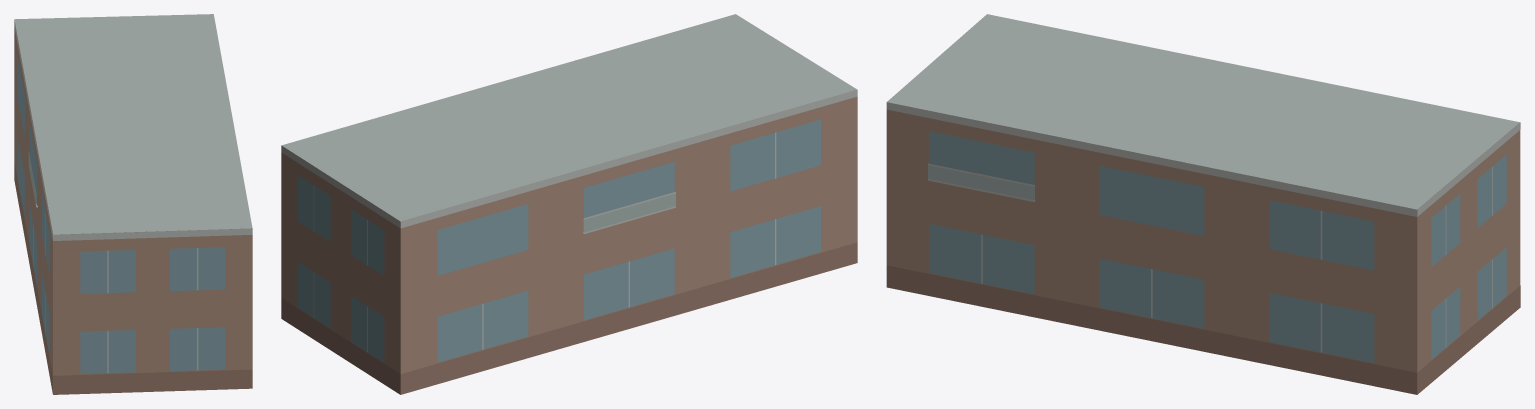
Rendered from survey-upis-32697219.glb.
The picture shows the model from 3 angles, left to right: view 1: azimuth 30°, elevation 25°; view 2: azimuth 150°, elevation 25°; view 3: azimuth 270°, elevation 25°; orthographic projection. The views are drawn at different scales.
Parts seen in each view (by area): view 1: survey-upis-32697219.tmp; view 2: survey-upis-32697219.tmp; view 3: survey-upis-32697219.tmp.
Part boxes in pixels (<box>): survey-upis-32697219.tmp: <box>14,14,252,394</box>; survey-upis-32697219.tmp: <box>281,14,857,394</box>; survey-upis-32697219.tmp: <box>886,14,1520,394</box>.
Size of the model in its own units: 13.82 by 6.1 by 18.92.
